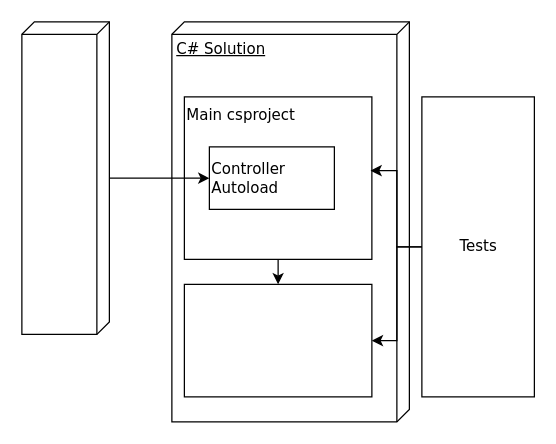
Some shapes in this 556 by 444 pixel diagram are drawn without their labels. The centre of each missing label's shape, as x and y in pixels:
"Godot" belongs at (65,177).
"Tools" belongs at (277,340).
